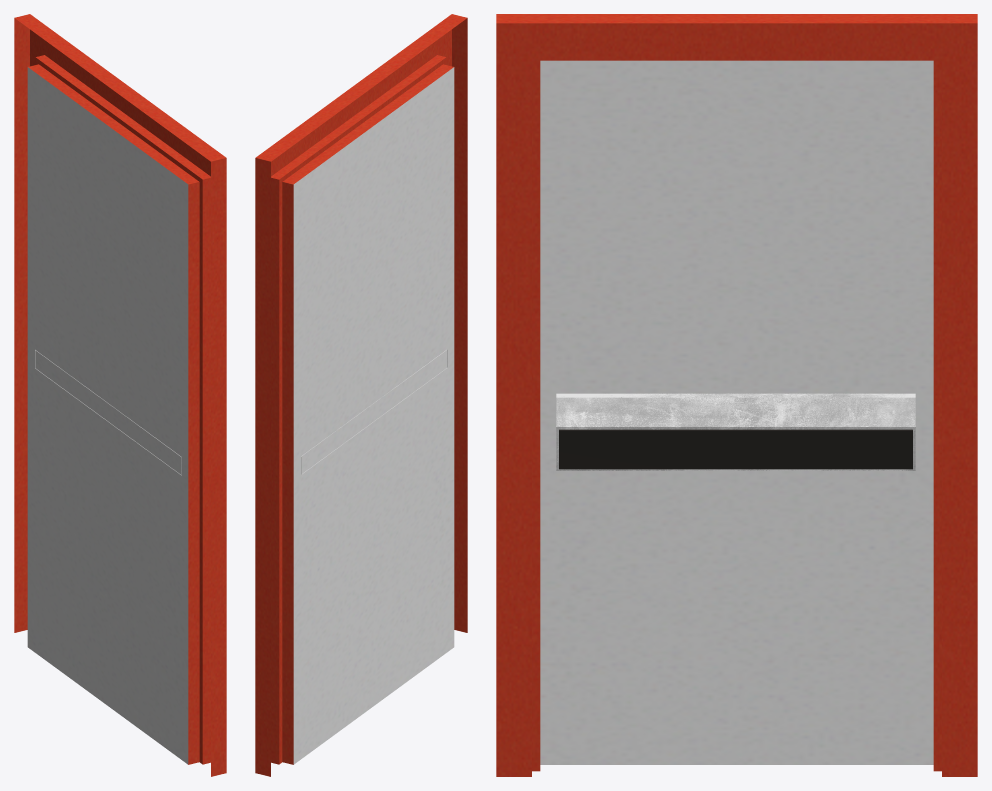
The model's file is DoorSingle.fbx.
The picture shows the model from 3 angles, left to right: view 1: azimuth 30°, elevation 25°; view 2: azimuth 150°, elevation 25°; view 3: azimuth 270°, elevation 25°; orthographic projection. The views are drawn at different scales.
Parts seen in each view (by area): view 1: Wood.002; view 2: Wood.002; view 3: Wood.002.
Part boxes in pixels (left/top/right/bottom): Wood.002: left=14, top=14, right=226, bottom=776; Wood.002: left=255, top=14, right=467, bottom=776; Wood.002: left=496, top=14, right=977, bottom=776.
Bounding box in the file's own units: 6.38 × 182 × 105.
